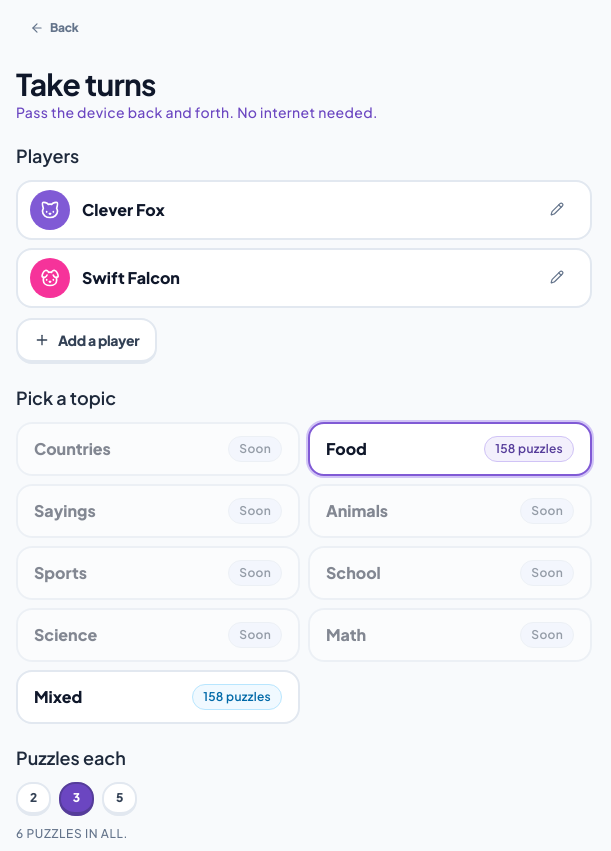
taking turns on one device › starts with two players, lets a third join, and needs no network
Click the button "Add a player".
click(87, 341)  # box [16,318,157,364]
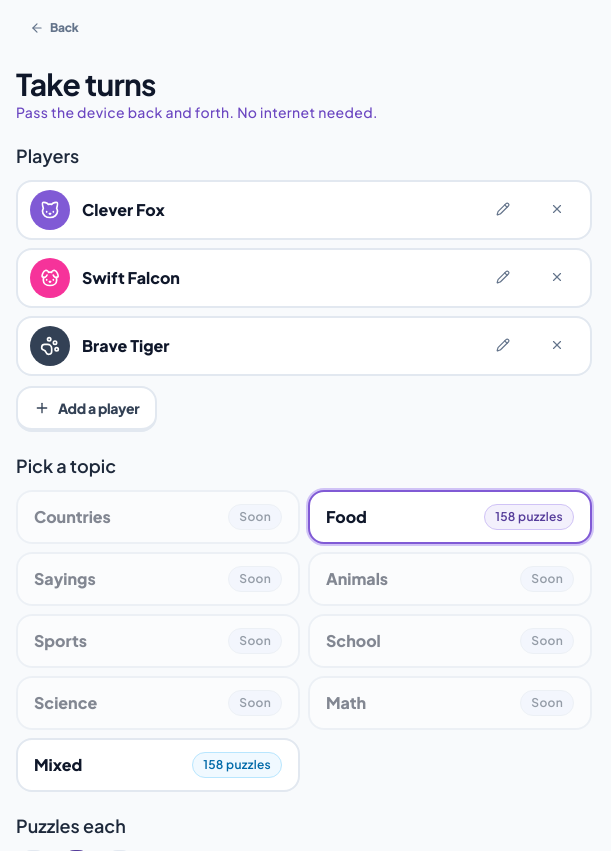
Check: the number of buttons named "Remove " is 3, box [536,194,578,226]; [536,262,578,294]; [536,330,578,362]
